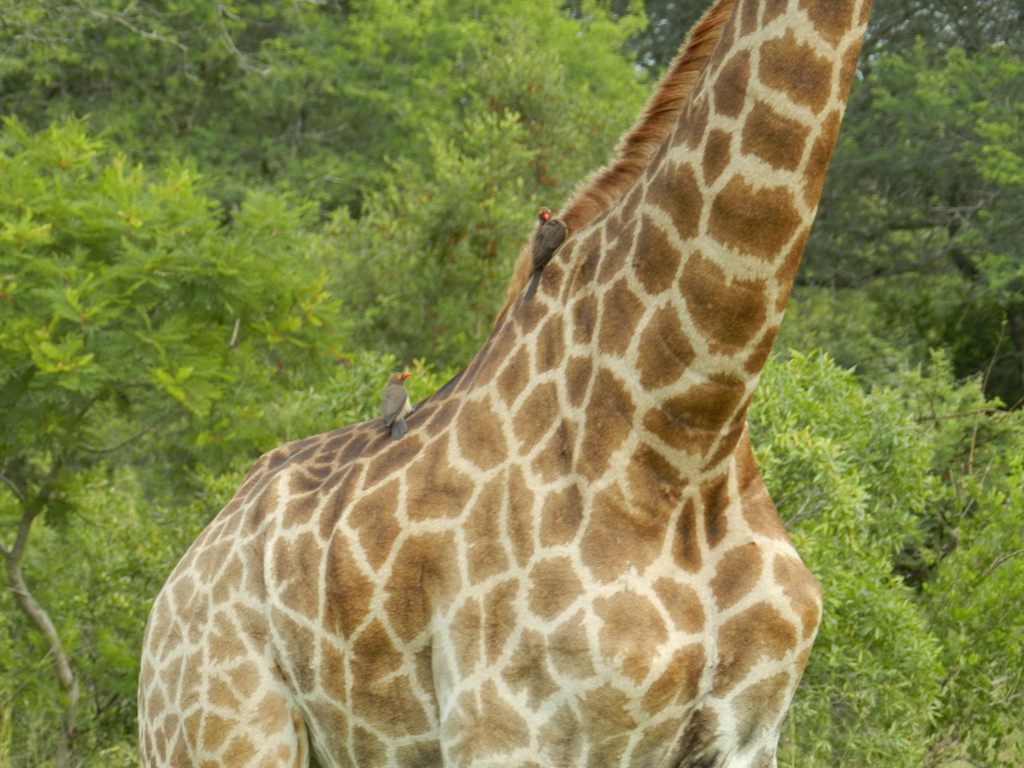giraffe: (154, 34, 888, 741)
